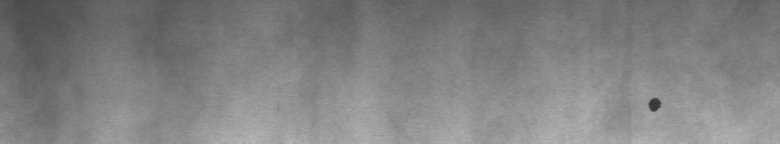fi: (641, 90, 667, 120)
